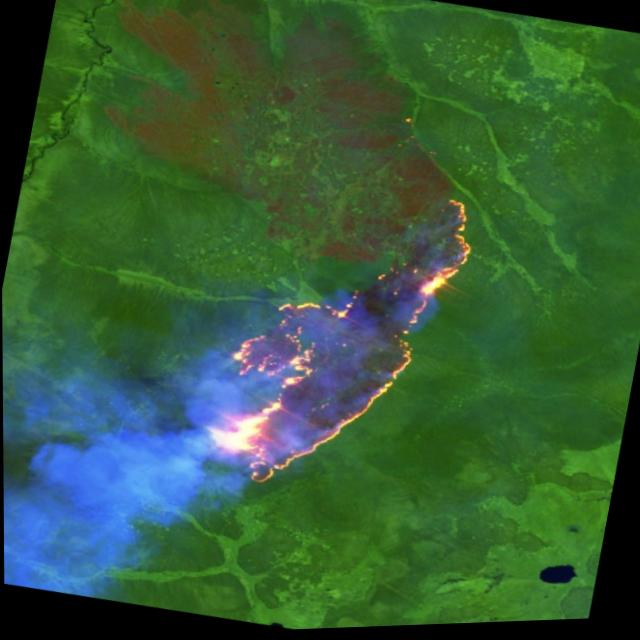fire: (198, 160, 487, 520)
